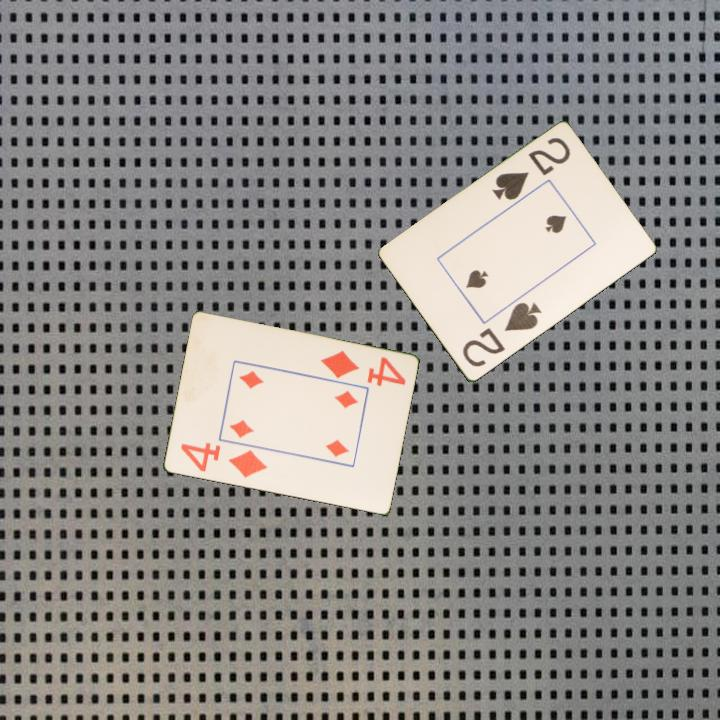2s: (458, 299, 544, 370), (489, 134, 573, 204)
4d: (177, 439, 270, 481), (316, 347, 408, 389)
